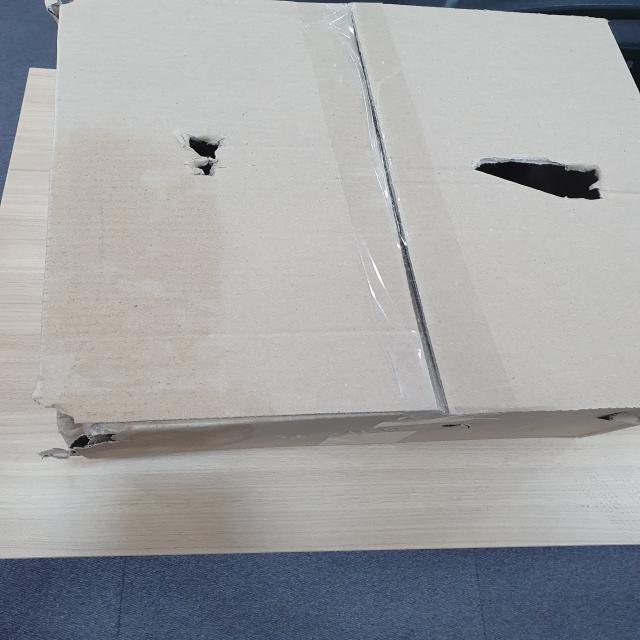hole: (473, 150, 611, 202), (173, 118, 231, 182)
